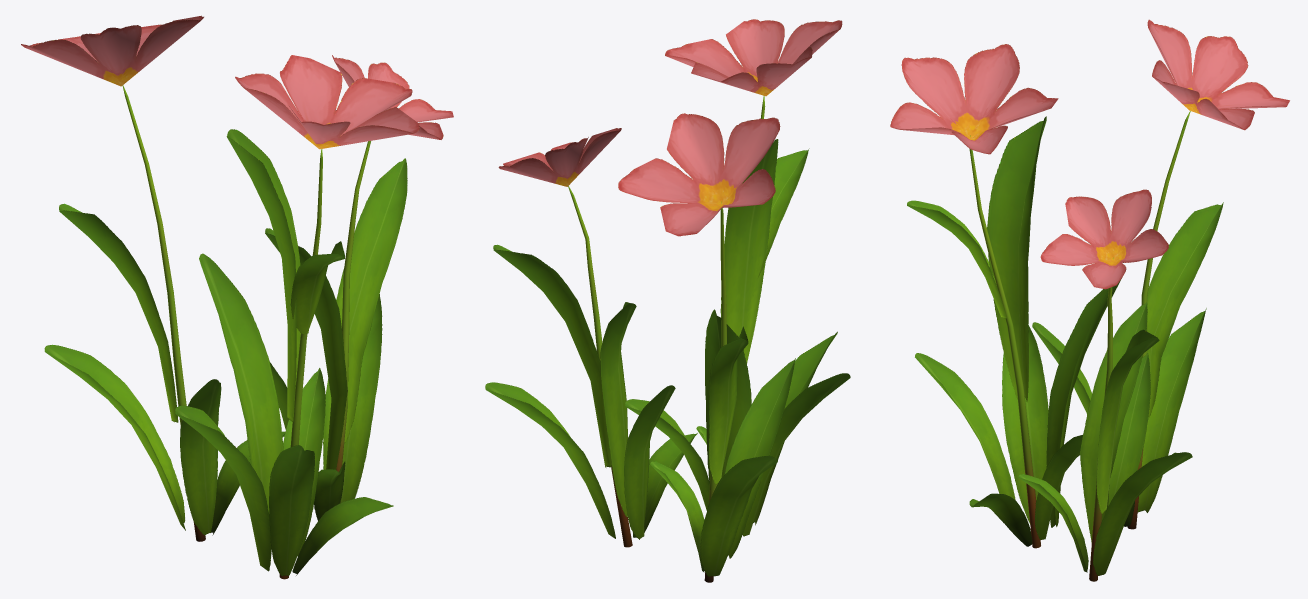
3 views of the same model, side by side, from view 1: azimuth 30°, elevation 25°; view 2: azimuth 150°, elevation 25°; view 3: azimuth 270°, elevation 25° (orthographic). The views are drawn at different scales.
Visible parts, largest first — view 1: Flower_3_Group; view 2: Flower_3_Group; view 3: Flower_3_Group.
Part boxes in pixels (x1,y1,x2,y2): Flower_3_Group: (21, 15, 453, 579); Flower_3_Group: (485, 19, 850, 582); Flower_3_Group: (890, 19, 1289, 581).
Bounding box in the file's own units: 1.49 × 2.05 × 1.59.
Materials: 2 (2 with a texture image).
